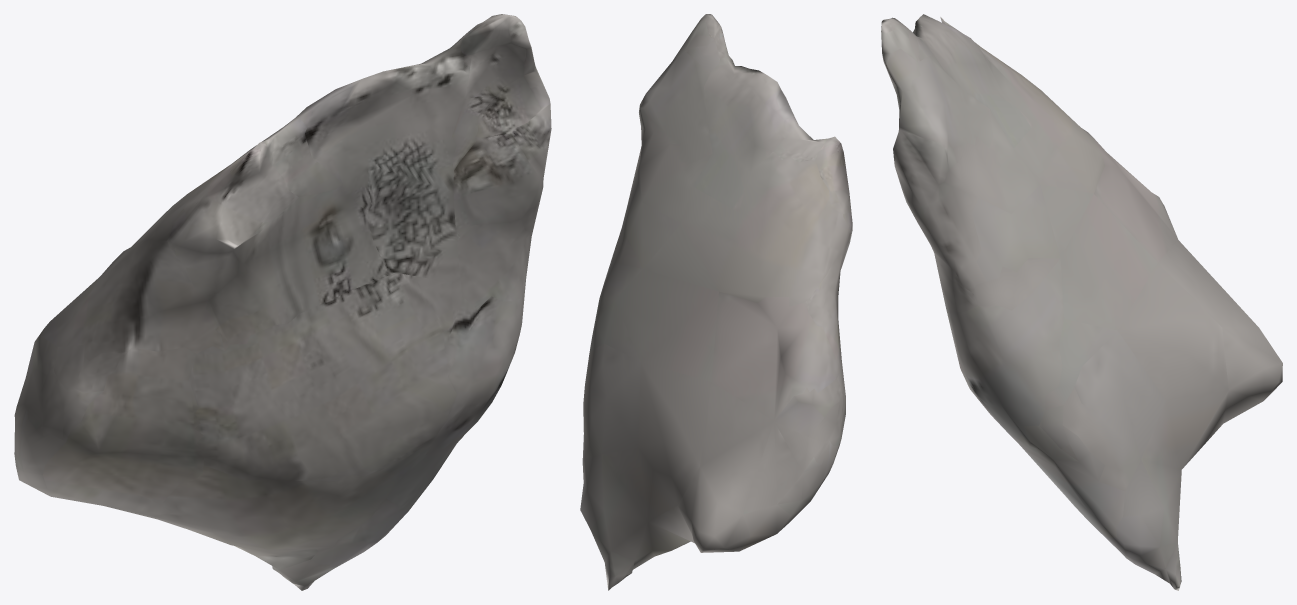
The model's file is hall.glb.
3 views of the same model, side by side, from view 1: azimuth 30°, elevation 25°; view 2: azimuth 150°, elevation 25°; view 3: azimuth 270°, elevation 25° (orthographic). The views are drawn at different scales.
Size of the model in its own units: 0.2724 by 0.4456 by 0.2787.
Materials: 1 (1 with a texture image).
